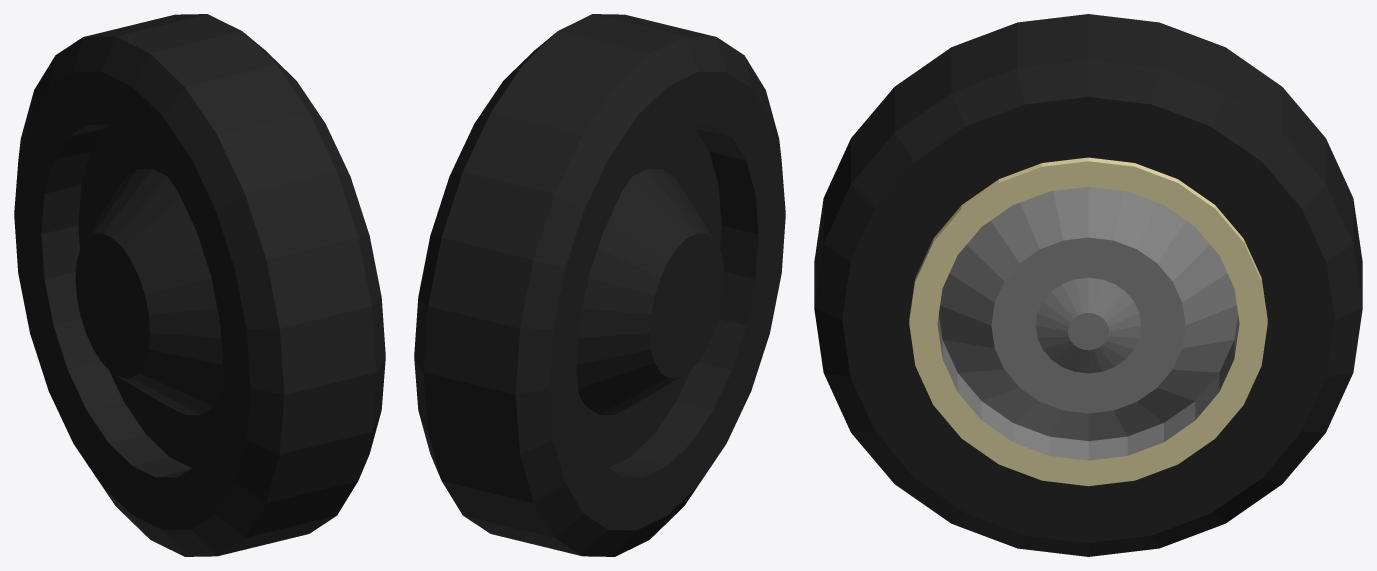
File: wheel.fbx
3 views of the same model, side by side, from view 1: azimuth 30°, elevation 25°; view 2: azimuth 150°, elevation 25°; view 3: azimuth 270°, elevation 25° (orthographic). The views are drawn at different scales.
Parts seen in each view (by area): view 1: Cylinder.003; view 2: Cylinder.003; view 3: Cylinder.003.
Boxes of the visible parts, box(x1,y1,x2,y2) form: Cylinder.003: box(14, 14, 385, 556); Cylinder.003: box(414, 14, 785, 556); Cylinder.003: box(814, 14, 1362, 556).
Bounding box in the file's own units: 18.14 × 47.94 × 47.94.
